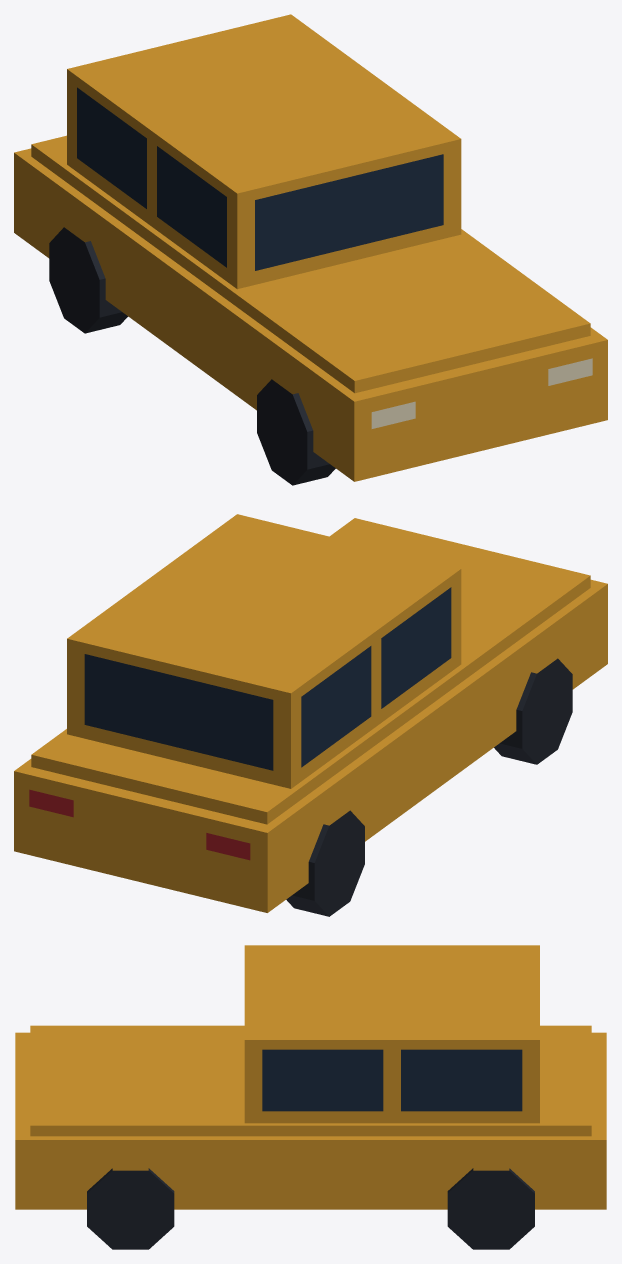
The model's file is hatchback.glb.
The picture shows the model from 3 angles, top to bottom: view 1: azimuth 30°, elevation 25°; view 2: azimuth 150°, elevation 25°; view 3: azimuth 270°, elevation 25°; orthographic projection. The views are drawn at different scales.
Size of the model in its own units: 1.8 by 1.5 by 4.02.
